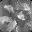people: (4, 4, 14, 14), (17, 11, 26, 21), (8, 21, 17, 31), (4, 15, 14, 23), (0, 14, 8, 21)
